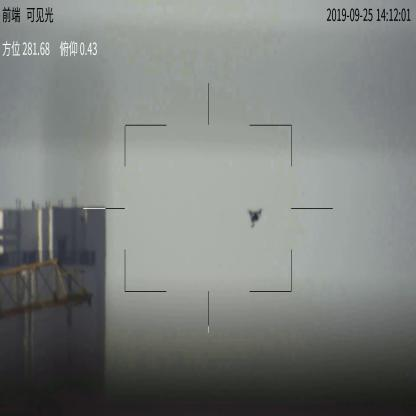uav: (247, 206, 264, 231)
